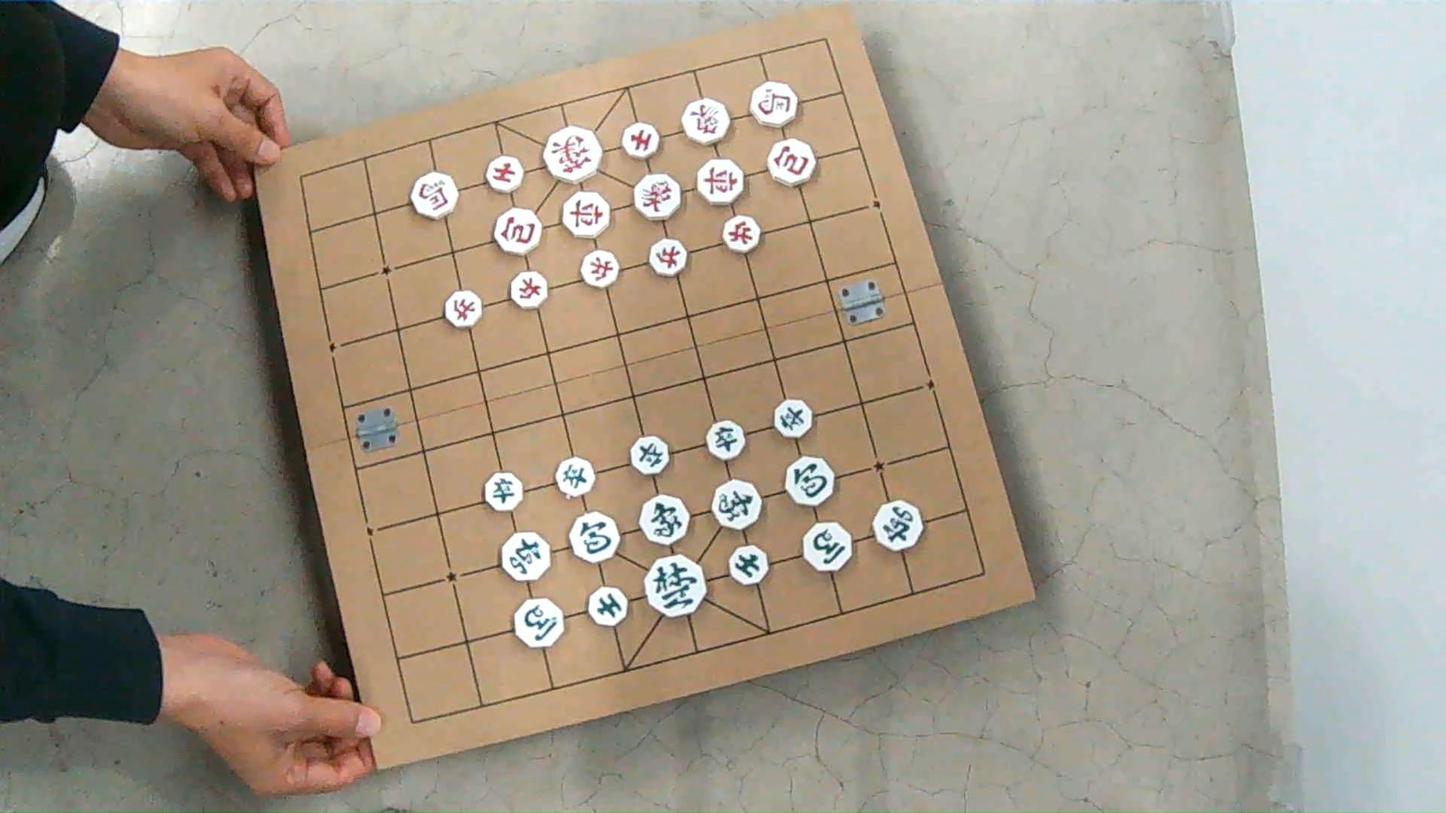cha_green: (500, 531, 551, 581), (872, 501, 922, 551)
cha_red: (561, 191, 609, 238), (697, 159, 743, 205)
jol_green: (773, 399, 812, 438), (556, 458, 594, 497), (706, 421, 744, 460), (630, 437, 669, 475), (484, 472, 521, 511)
jol_red: (580, 250, 618, 288), (722, 215, 761, 252), (444, 291, 482, 327), (649, 239, 685, 276), (511, 271, 545, 308)
ma_green: (514, 599, 563, 647), (804, 522, 851, 571)
ma_red: (410, 172, 457, 219), (751, 81, 797, 127)
po_green: (569, 512, 619, 562), (786, 456, 834, 506)
po_red: (767, 139, 815, 186), (494, 208, 541, 255)
sa_green: (729, 545, 768, 585), (588, 587, 627, 626)
sa_red: (622, 122, 660, 159), (485, 156, 524, 192)
sang_green: (639, 495, 688, 545), (712, 480, 761, 529)
sang_red: (633, 173, 680, 220), (682, 99, 729, 145)
wang_green: (646, 555, 706, 617)
wang_red: (544, 126, 601, 182)
